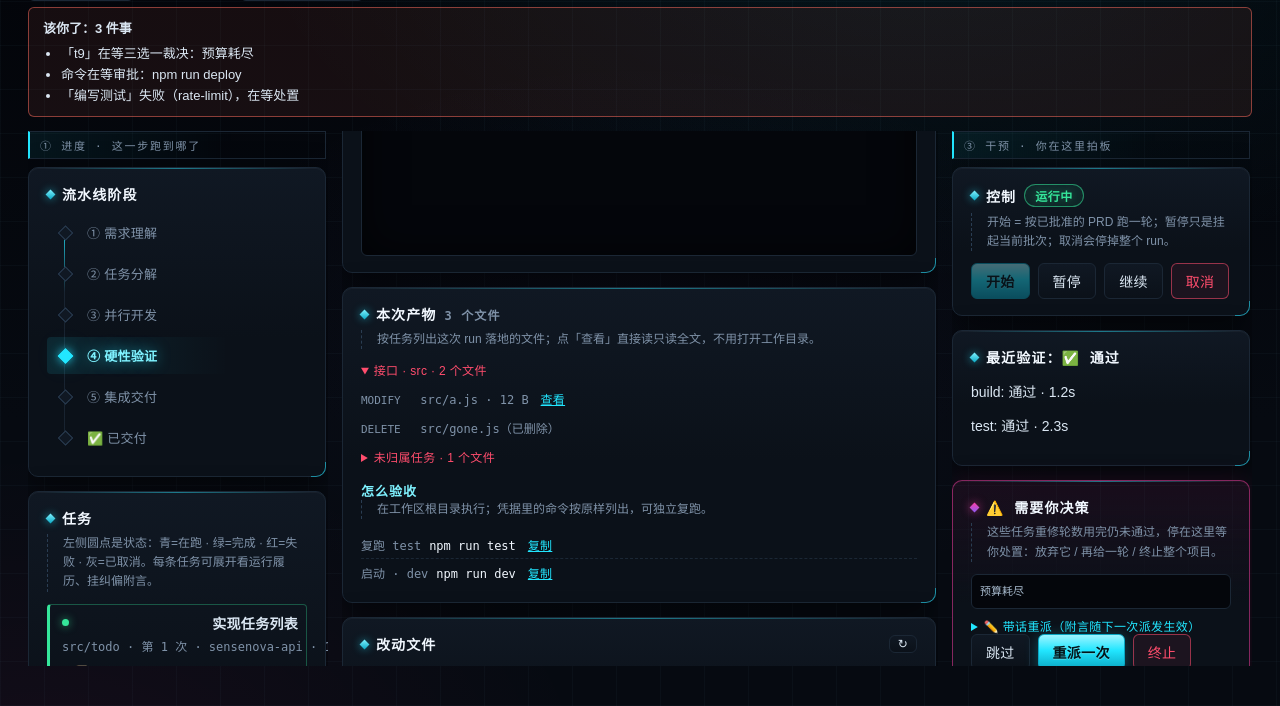
Test case: BoardPage › 本次产物 + 怎么验收（delivery:guide / delivery:read） › 按任务分组陈列产物；点查看读到只读全文；命令原样可复制
(page scrolled)
Check: the heading "本次产物 3 个文件" is shown, box x1=376 y1=307 x2=501 y2=323
Check: the heading "接口 · src · 2 个文件" is shown, box x1=374 y1=364 x2=487 y2=378
What coordinates should you click on to do the following:
click the button titled "只读查看这个文件（读取工作区当前内容）"
I would click on:
 (553, 399)
Its box is x1=537 y1=390 x2=569 y2=407.
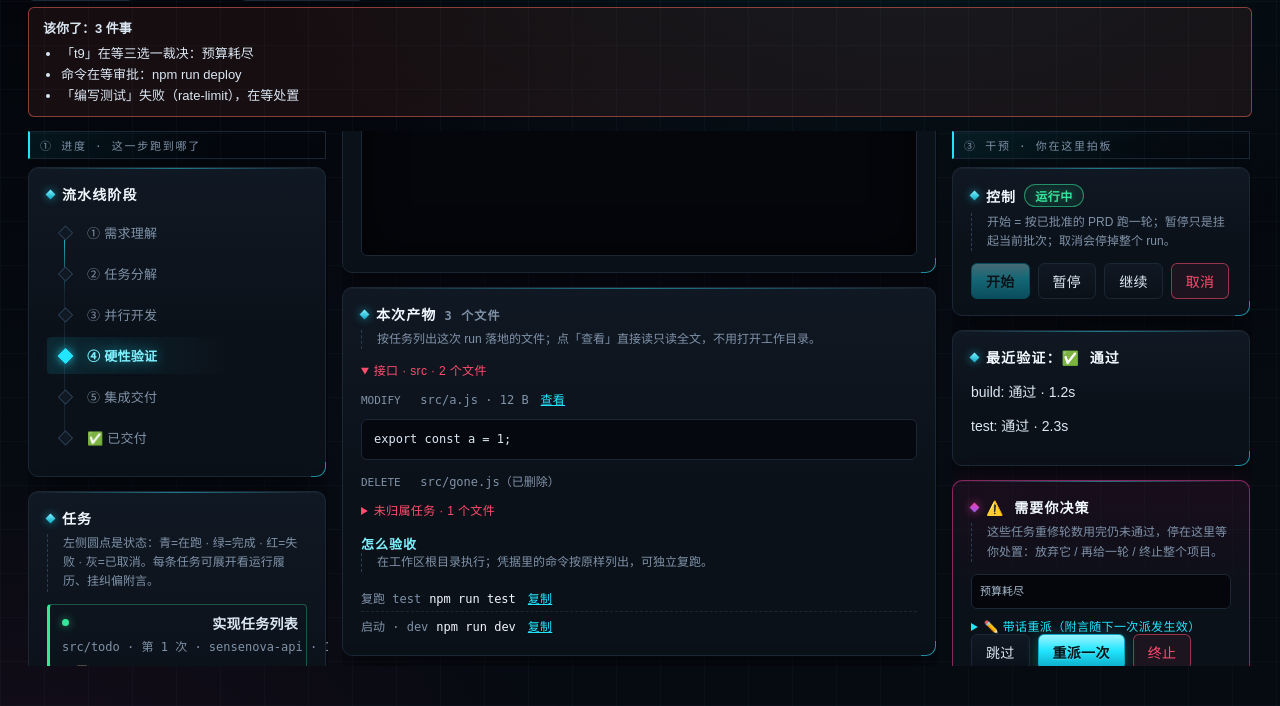
Check: the text "export const a = 1;" is shown, box x1=361 y1=419 x2=917 y2=460
